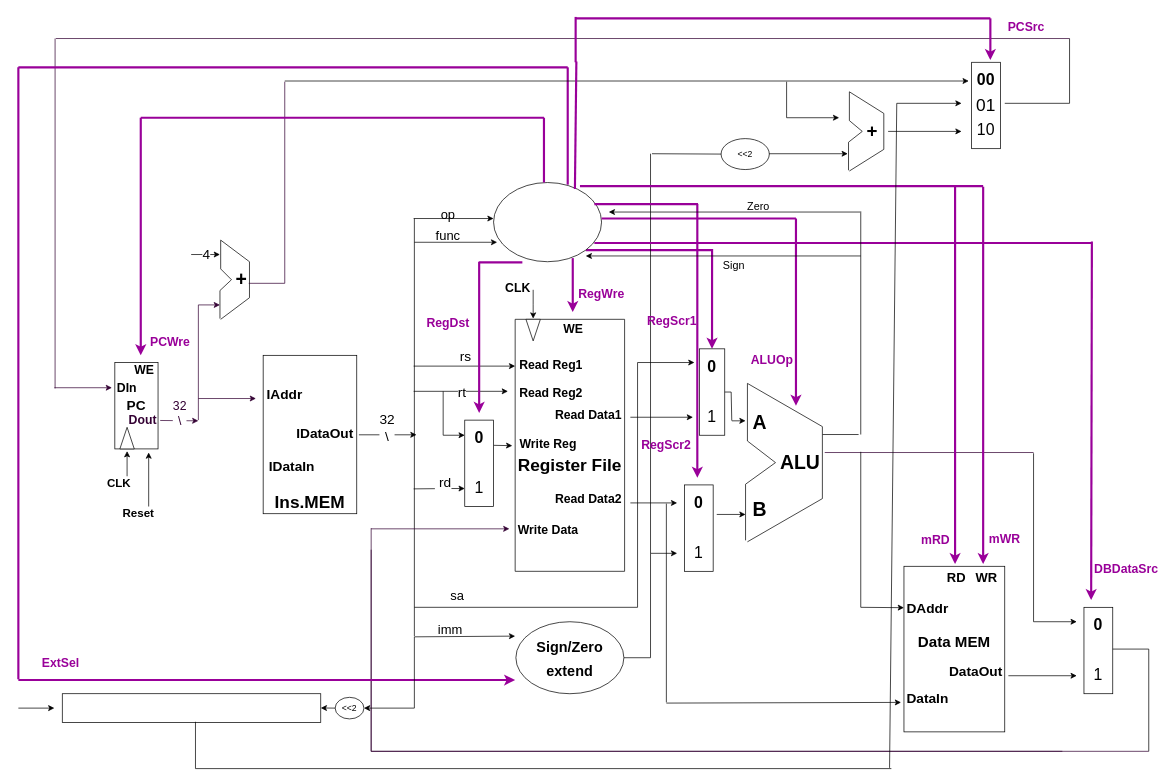
Image size: 1171x782. Some labels were removed from this diagram. The centre of each missing label's shape, as x and y in pixels:
Control Unit: point (547, 222)
PC4[31:28] +addr[27:2] + 0 + 0: point (191, 708)
